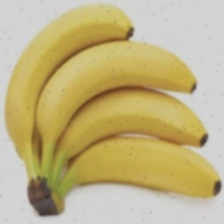banana: (0, 2, 201, 204)
